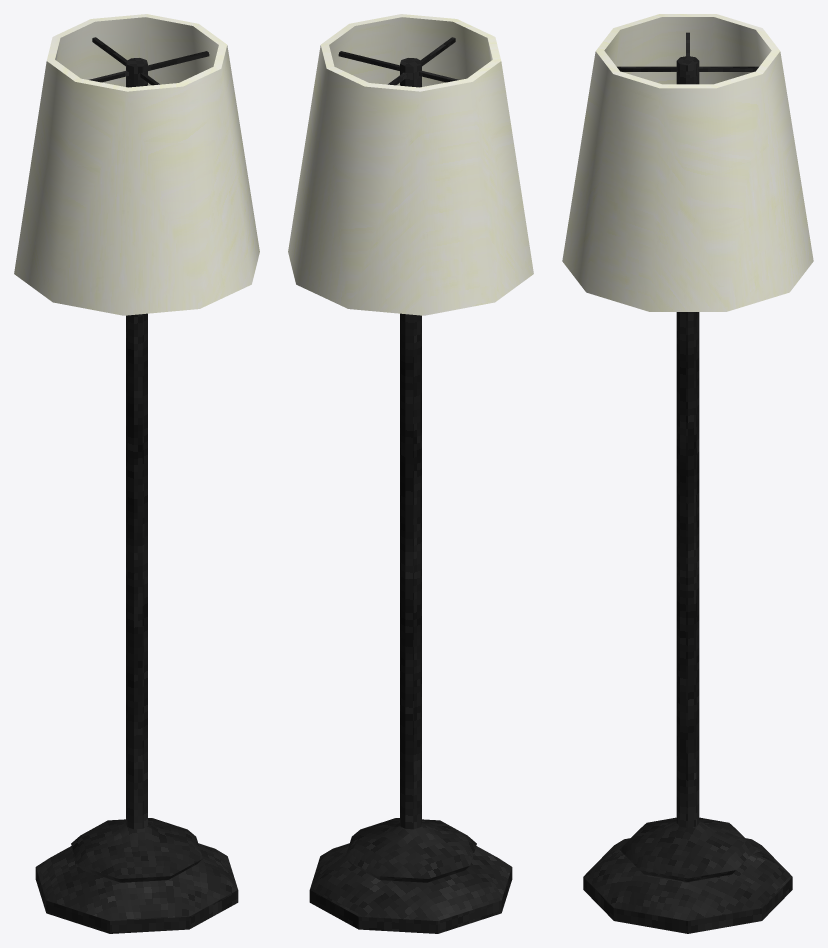
File: lamp.glb
The picture shows the model from 3 angles, left to right: view 1: azimuth 30°, elevation 25°; view 2: azimuth 150°, elevation 25°; view 3: azimuth 270°, elevation 25°; orthographic projection.
Visible parts, largest first — view 1: Light_Stand1.001, Light_Stand1; view 2: Light_Stand1.001, Light_Stand1; view 3: Light_Stand1.001, Light_Stand1.
Part boxes in pixels (x1,y1,x2,y2): Light_Stand1.001: [14, 14, 259, 315]; Light_Stand1: [35, 37, 238, 933]; Light_Stand1.001: [288, 14, 533, 315]; Light_Stand1: [309, 37, 512, 933]; Light_Stand1.001: [562, 14, 813, 311]; Light_Stand1: [583, 32, 792, 933].
Size of the model in its own units: 0.7734 by 2.99 by 0.8132.
Materials: 2 (2 with a texture image).
